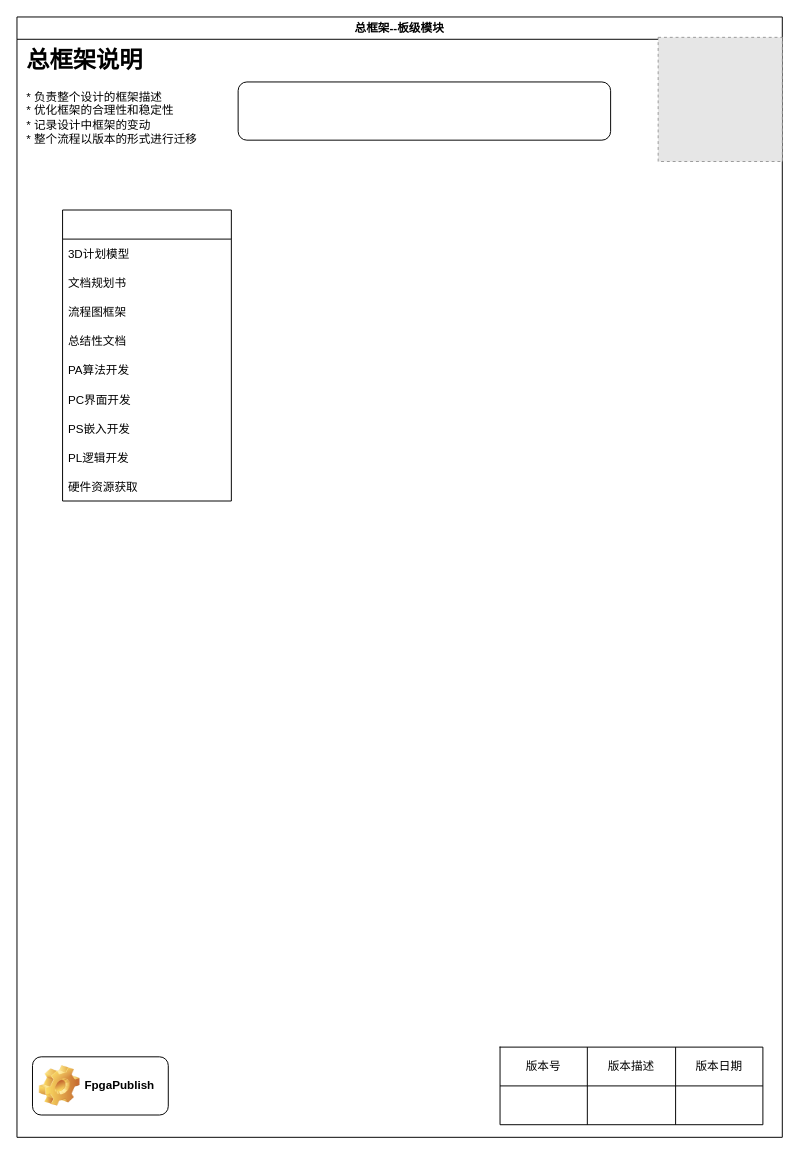
This 799x1154 diagram has some shape labels left out. Grey dashed boxes stand in for pictures. Here are the shapes that lost their labels. From the top down, the box of each, then its label:
(237, 81, 611, 140): 板级模块 -- 划分设计的内容
(62, 209, 231, 501): 设计目录
